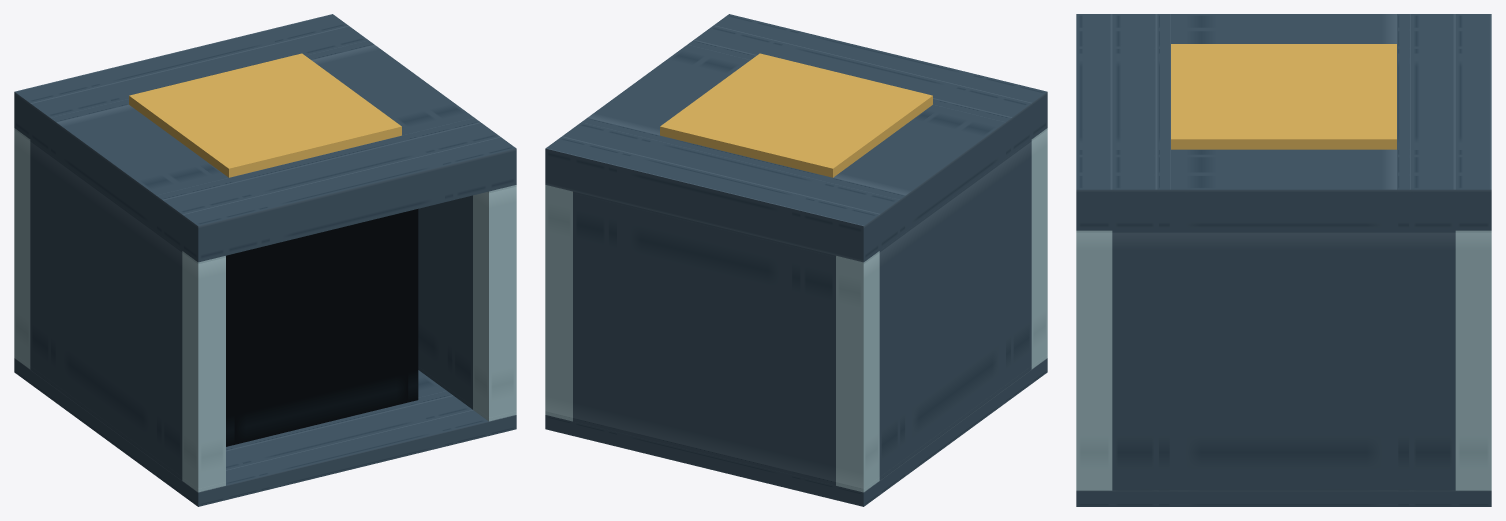
Rendered from sc_factory_one.obj.
The picture shows the model from 3 angles, left to right: view 1: azimuth 30°, elevation 25°; view 2: azimuth 150°, elevation 25°; view 3: azimuth 270°, elevation 25°; orthographic projection. The views are drawn at different scales.
Size of the model in its own units: 18.4 by 16 by 18.4.
1 material, 1 textured.
